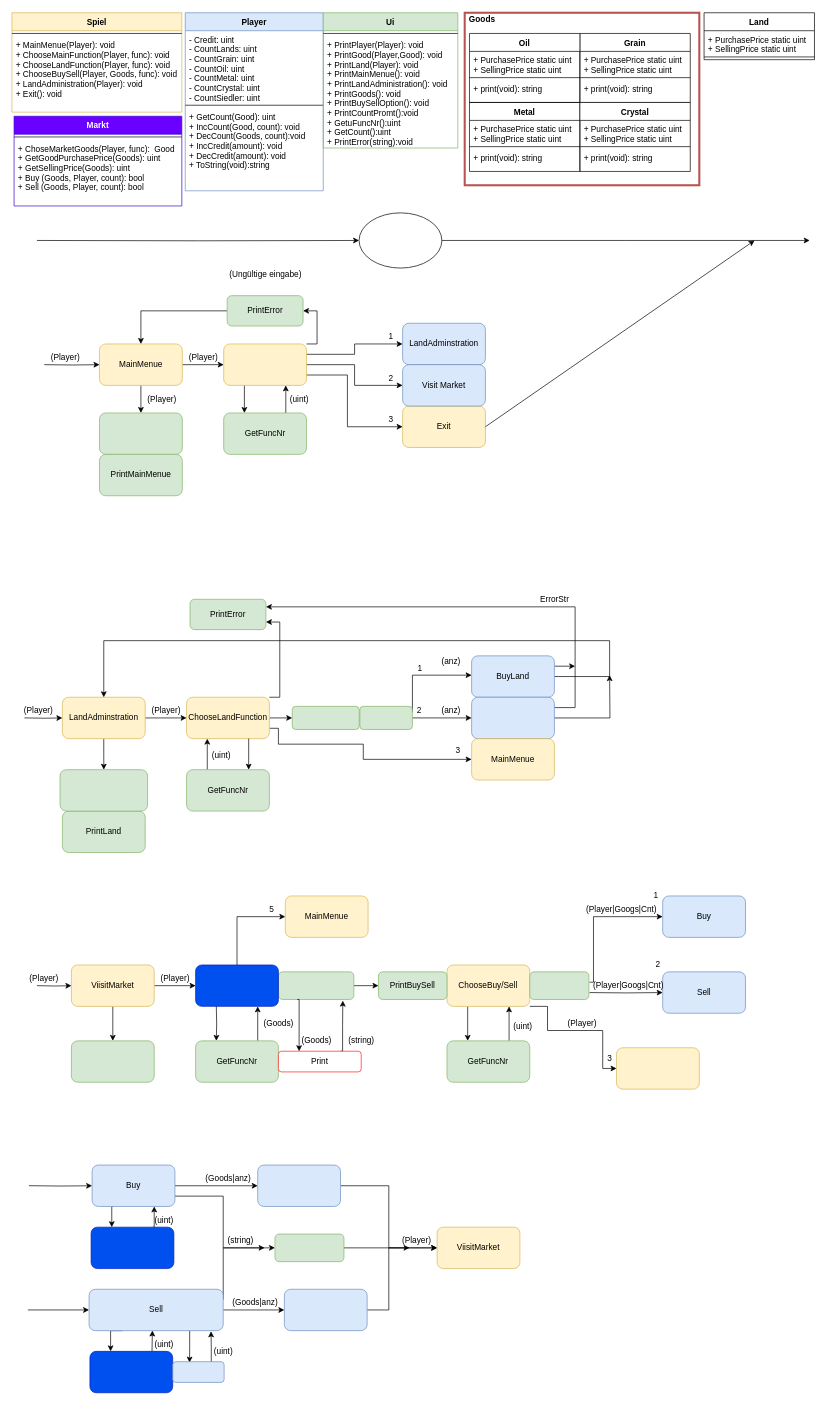
This 828x1405 diagram has some shape labels left out. The shapes that lost their labels are listed below. From the top down, each one's centre as x and y in pixels, then its label:
the point at 400,240: Main
the point at 264,364: ChooseMainFunction
the point at 140,433: PrintPlayer
the point at 325,717: PrintAnzPromt
the point at 385,717: GetAnz
the point at 512,718: SellLand
the point at 103,790: PrintLandAdminstration
the point at 236,985: ChoseMarketGoods
the point at 316,985: PrintGoodsDetails
the point at 559,985: PrintCntPromt
the point at 112,1061: PrintGoods
the point at 657,1068: VisitMarket
the point at 299,1185: IncCnt
the point at 132,1247: GetPruchPrice
the point at 309,1247: Print Error
the point at 325,1310: DecCnt
the point at 131,1372: GetSellPrice
the point at 198,1371: GetCnt
